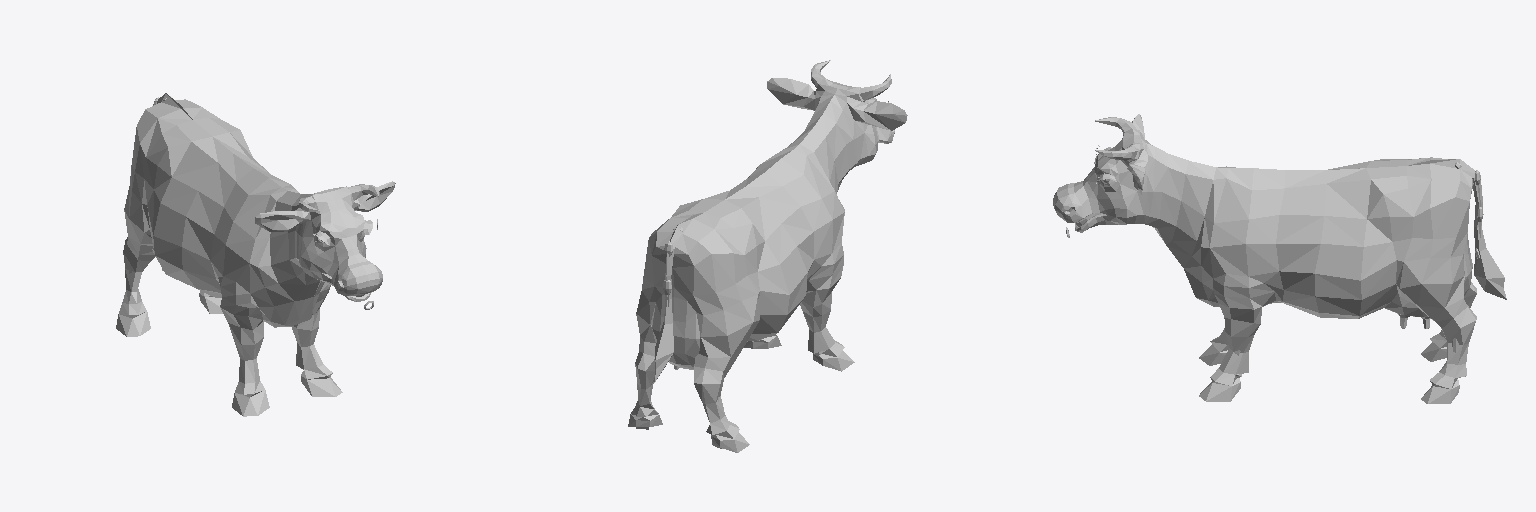
The model's file is newCow3.obj.
The picture shows the model from 3 angles: view 1: azimuth 30°, elevation 25°; view 2: azimuth 150°, elevation 25°; view 3: azimuth 270°, elevation 25°; orthographic projection.
Bounding box in the file's own units: 1.92 × 3.18 × 5.38.